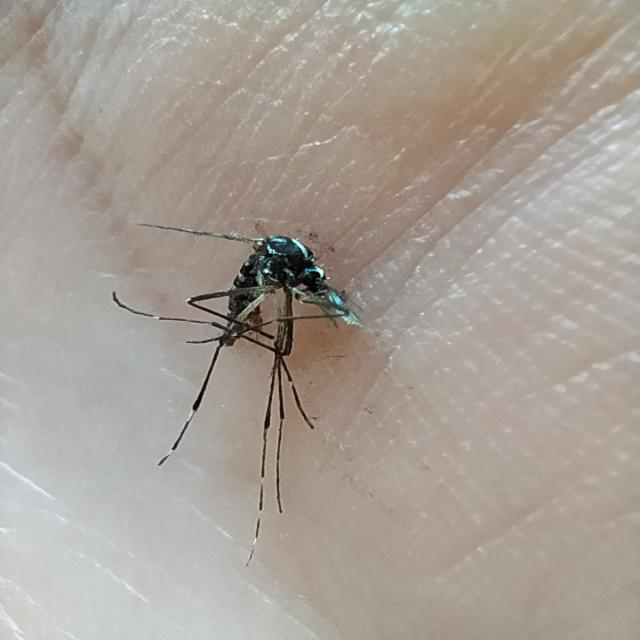albopictus: (110, 203, 359, 546)
